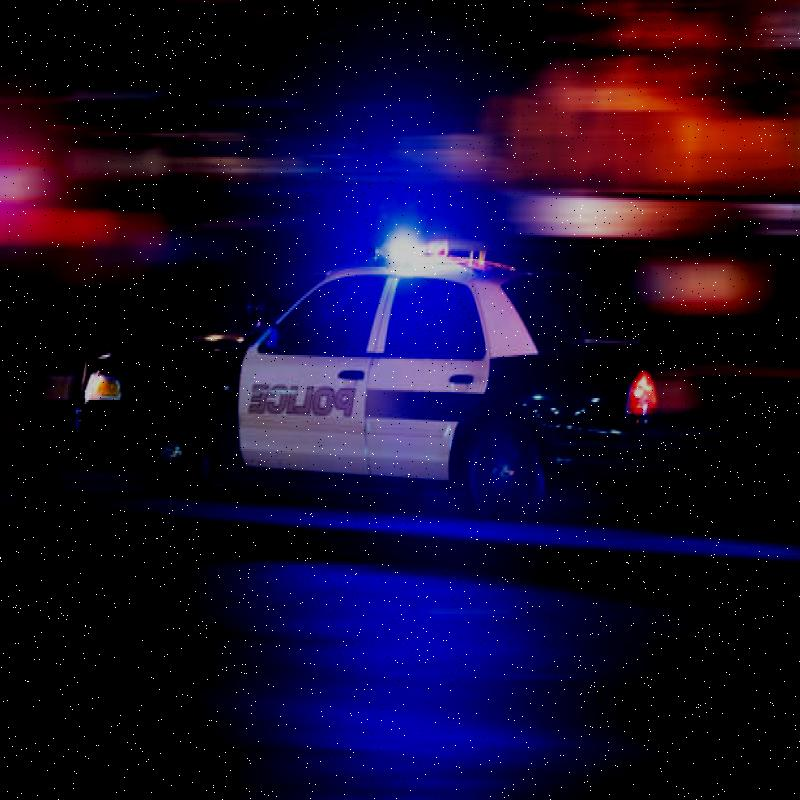AmbulanceSiren: (372, 218, 487, 291)
